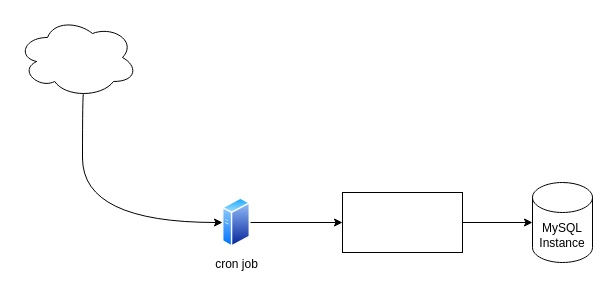
This 610x289 diagram has some shape labels left out. The centre of each missing label's shape, as x and y in pixels:
Beautiful Soup: pixel 402 222
Media Content: pixel 77 57
